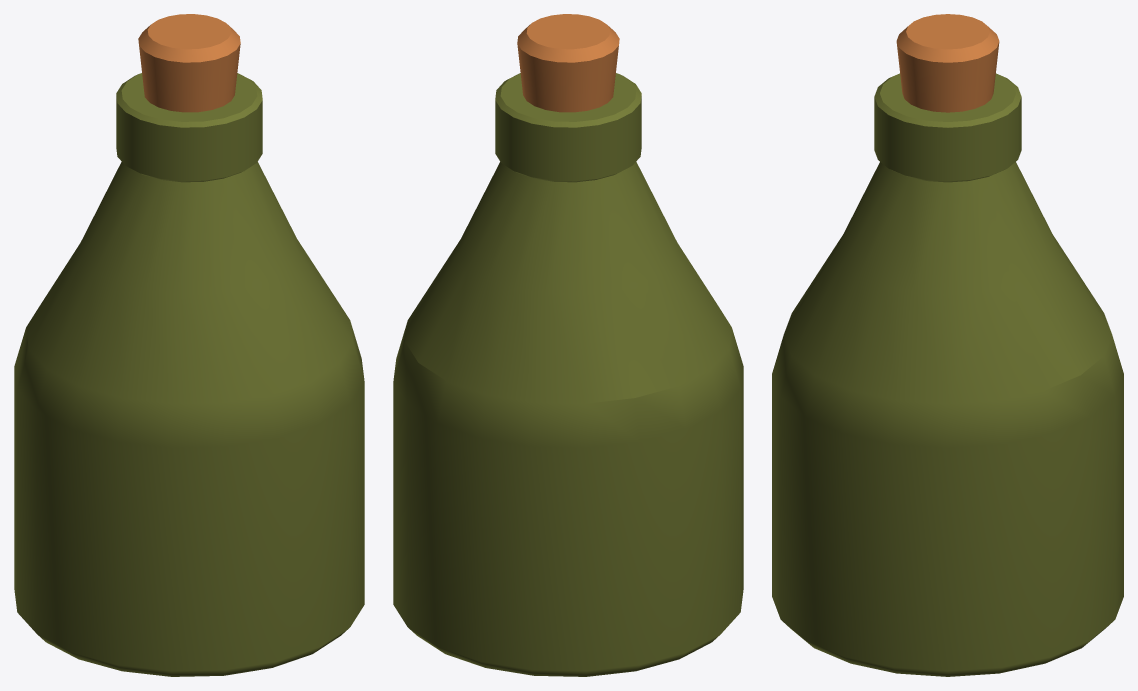
Rendered from Bottle_2.fbx.
3 renders of one model, left to right at view 1: azimuth 30°, elevation 25°; view 2: azimuth 150°, elevation 25°; view 3: azimuth 270°, elevation 25°, orthographic.
Visible parts, largest first — view 1: Bottle2; view 2: Bottle2; view 3: Bottle2.
Boxes of the visible parts, x1,y1,x2,y2 form: Bottle2: (14, 14, 364, 676); Bottle2: (393, 14, 743, 676); Bottle2: (772, 14, 1123, 676).
Size of the model in its own units: 99.45 by 182 by 99.45.
